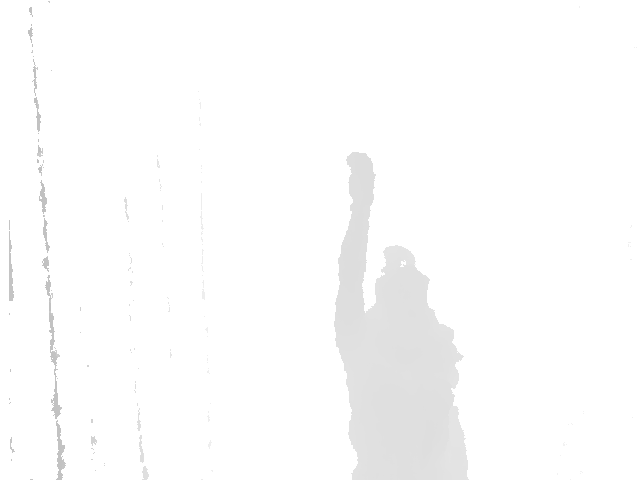hand: (345, 150, 378, 207)
head: (373, 246, 432, 334)
person: (331, 150, 469, 480)
